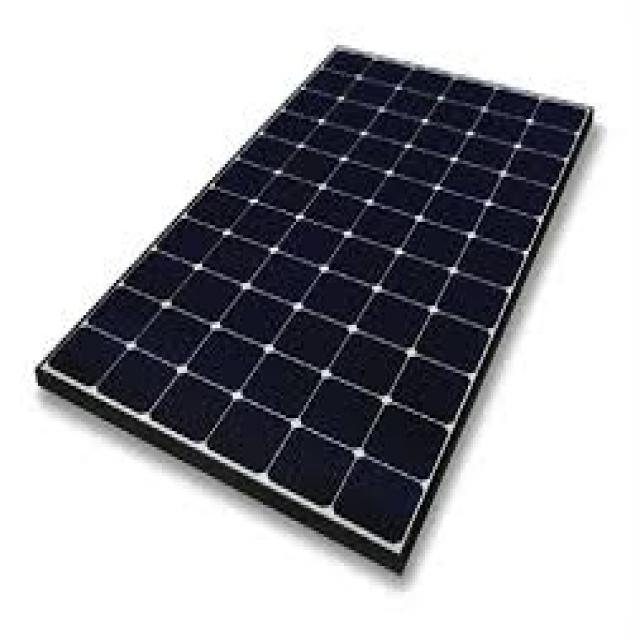no faulty: (49, 43, 578, 550)
